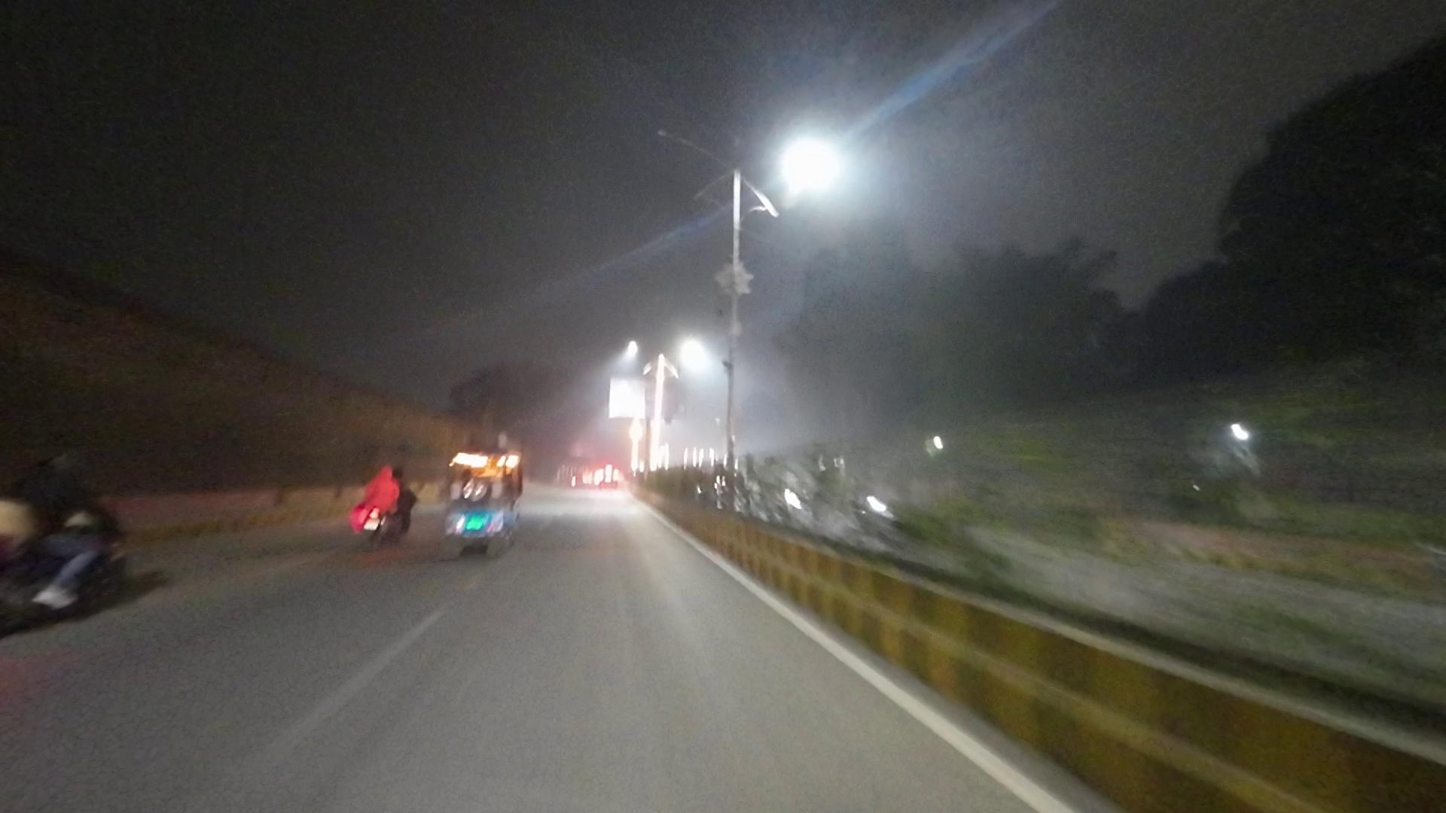streetlight: (652, 125, 703, 152)
